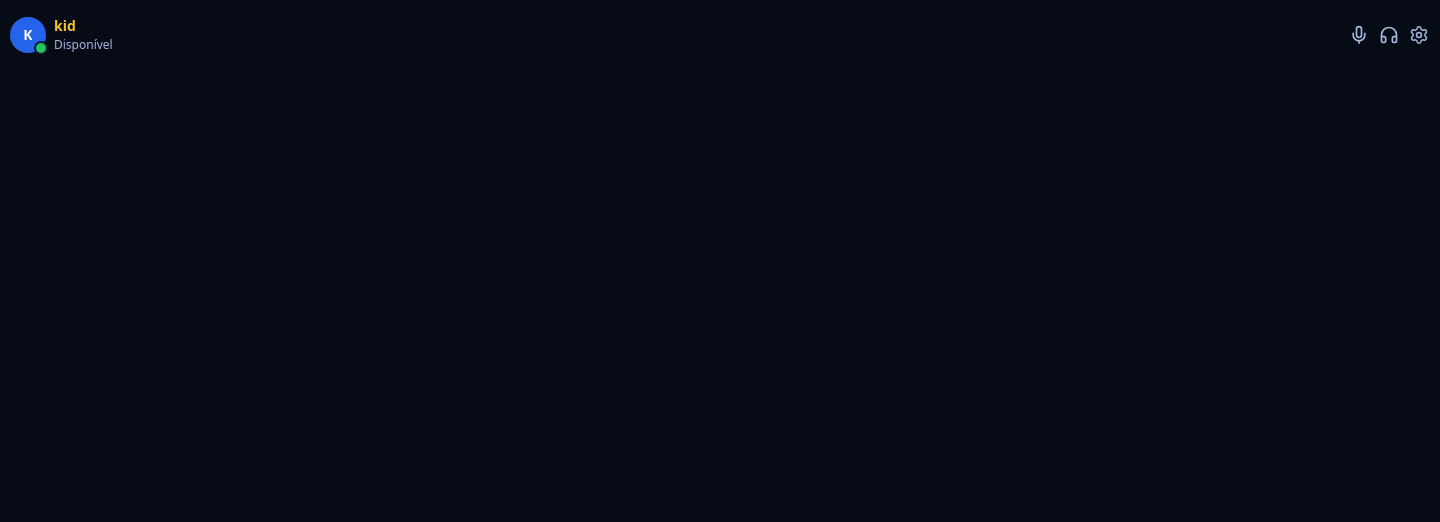
it: o menu de status › o painel mostra o status, e o avatar e o nome abrem o menu com os quatro
expect the text "Disponível" is shown: met, box [54,36,113,53]
Click the button with aria-label "Seu status" at (28, 34), box [6,12,1340,57]
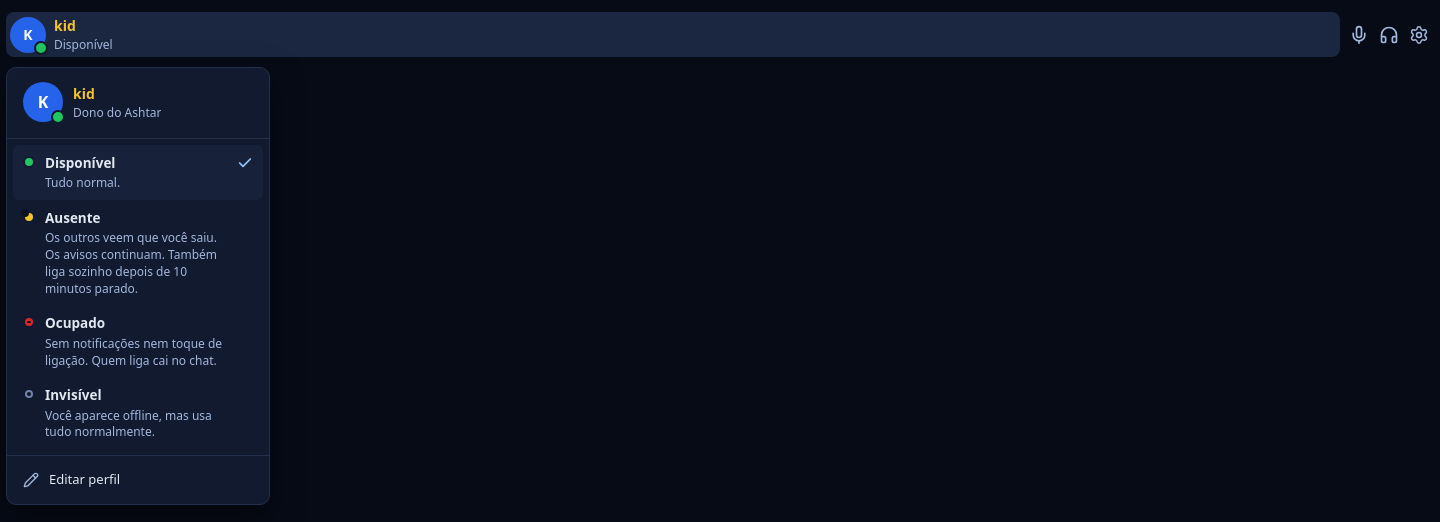
expect the text "Dono do Ashtar" is shown: met, box [73,104,161,120]
